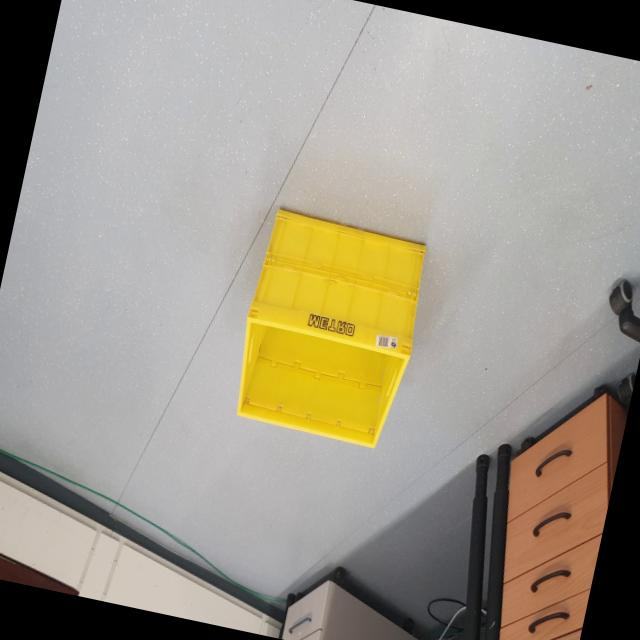box: (210, 168, 448, 467)
